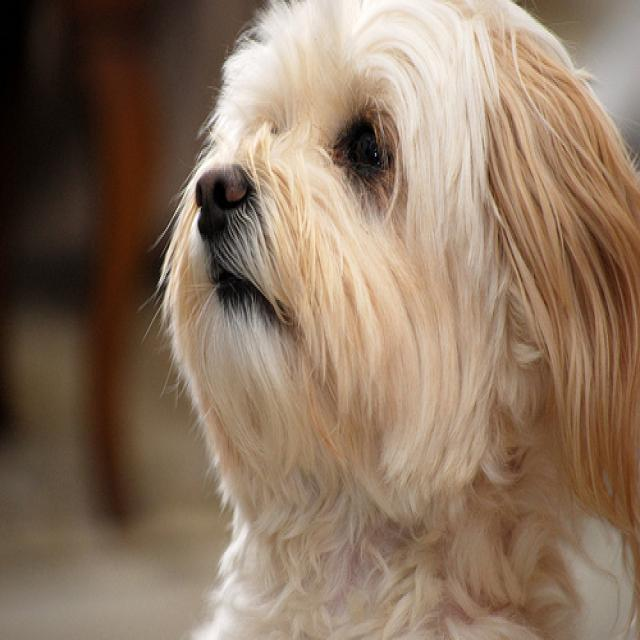dog-havanese: (131, 2, 637, 636)
